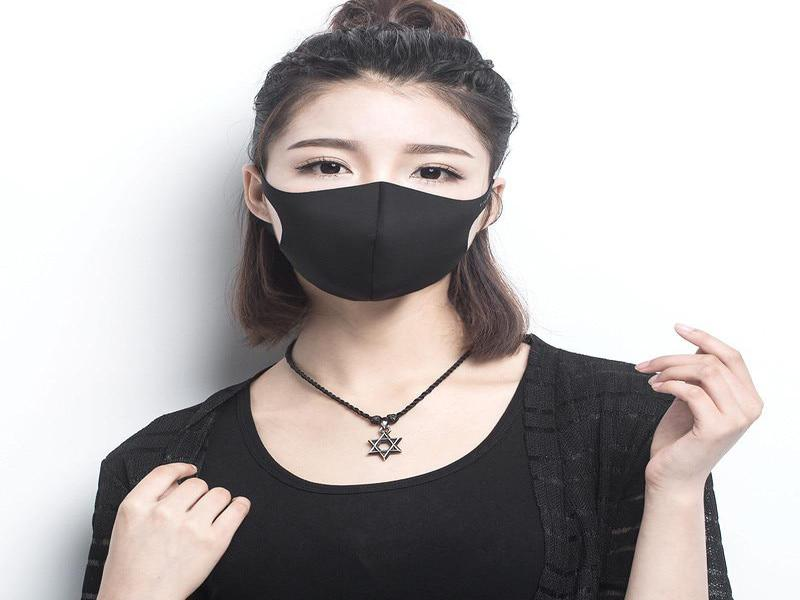with_mask: (260, 69, 491, 309)
